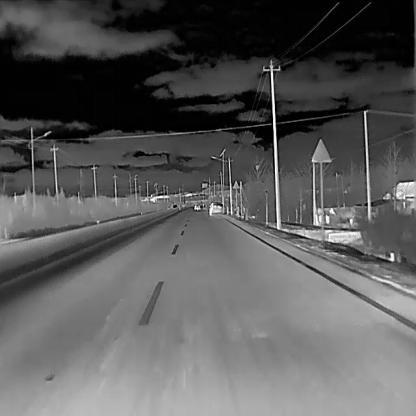car: (208, 200, 224, 215), (193, 202, 199, 212)
